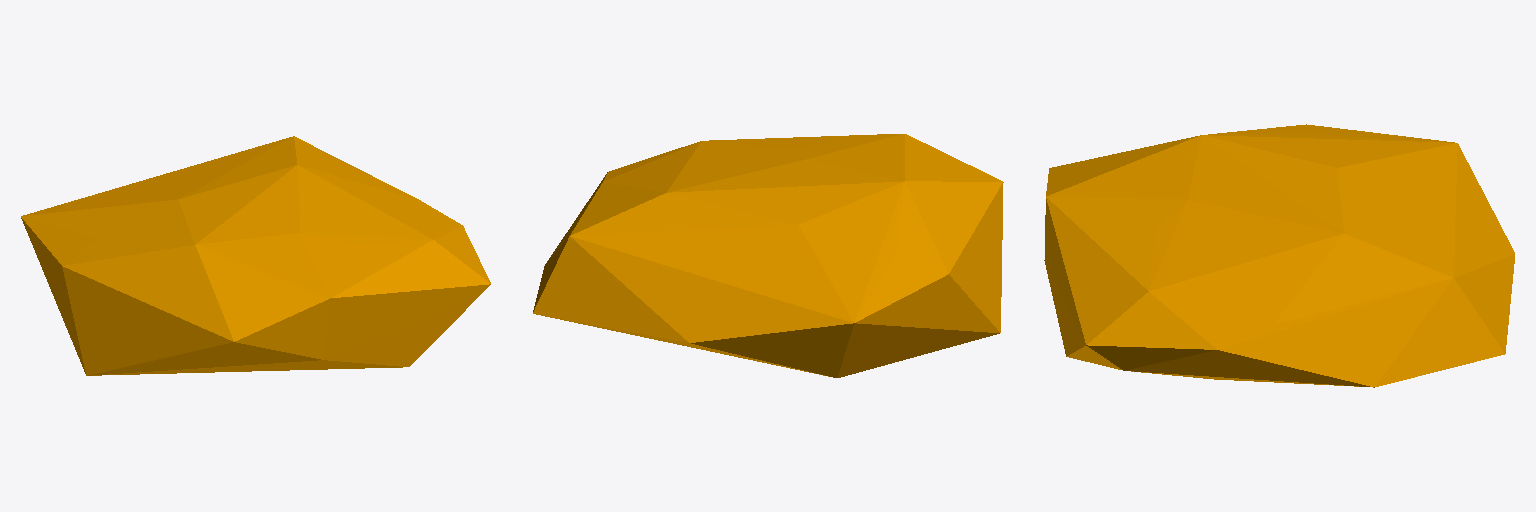
URDF robot description (train1631):
<?xml version="1.0"?>
<robot name="train1631">
  <link name="link">
    <contact>
      <lateral_friction value="0.6"/>
    </contact>
    <inertial>
      <mass value = "0.3163091117652065"/>
      <inertia ixx="0.00013713688202775877" ixy="-1.7267960527129698e-20" ixz="7.192052806105953e-21" iyy="0.00014931661957668662" iyz="-9.319775029917248e-22" izz="0.00025811958330563346" />
    </inertial>
    <visual name="visual">
      <geometry>
        <mesh filename="train1631.obj"/>
      </geometry>
    </visual>
    <collision name="collision">
      <geometry>
        <mesh filename="train1631.obj"/>
      </geometry>
    </collision>
  </link>
</robot>

--- Render facts (derived) ---
Views: 3 orthographic renders of the robot side by side, from view 1: azimuth 30°, elevation 25°; view 2: azimuth 150°, elevation 25°; view 3: azimuth 270°, elevation 25°.
Robot: train1631 — 1 links, 0 joints (none); root link link; default pose: every joint at zero.
Visible links, largest first — view 1: link; view 2: link; view 3: link.
Link boxes in pixels (x1,y1,x2,y2): link: (21,136,490,375); link: (533,134,1003,377); link: (1044,124,1514,387).
Bounding box of the posed robot: 0.0906 × 0.0858 × 0.0306 m (x, y, z).
1 mesh visuals loaded from 1 distinct referenced files (1 OBJ).
